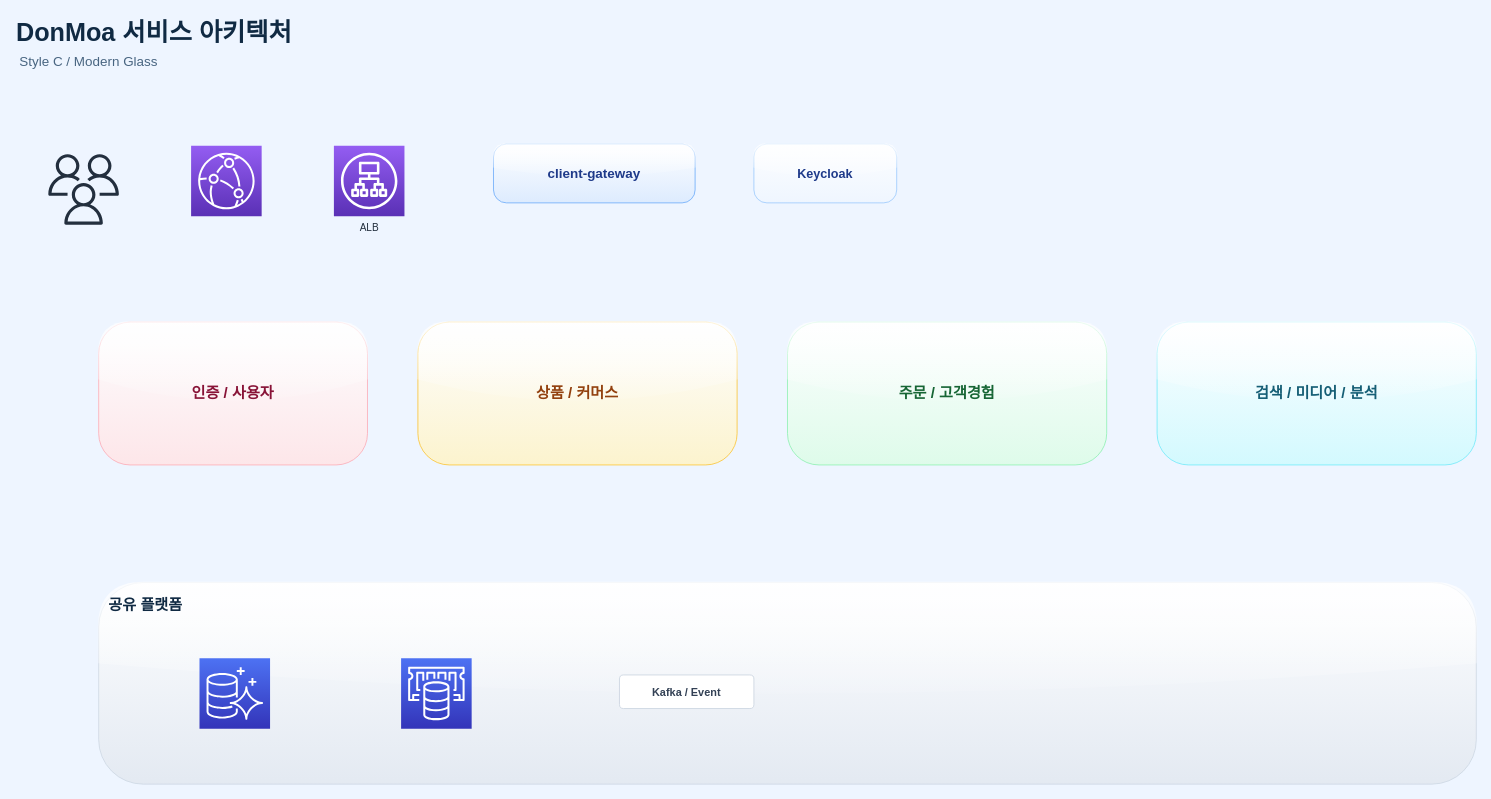
Image size: 1491x799. Some labels were removed from this diagram. The centre of each missing label's shape, as x and y in pixels:
"Aurora" goes at point (234, 693).
"CloudFront" goes at point (226, 180).
"ElastiCache" goes at point (436, 693).
"사용자" goes at point (83, 189).
